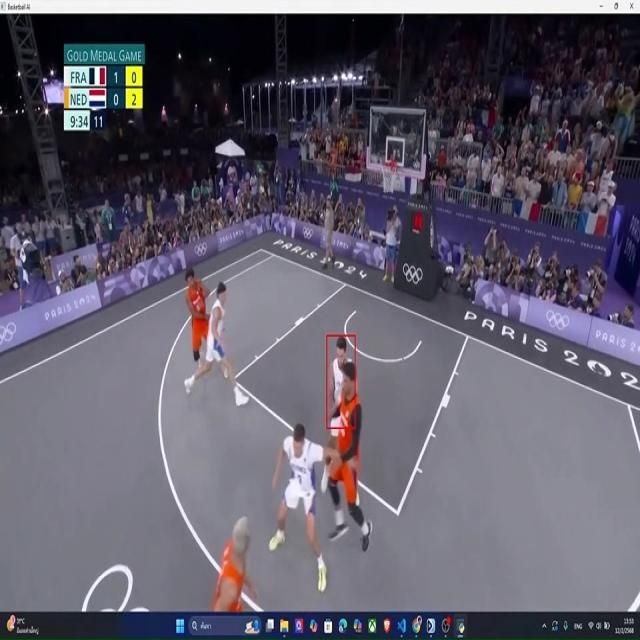hoop: (381, 159, 397, 193)
